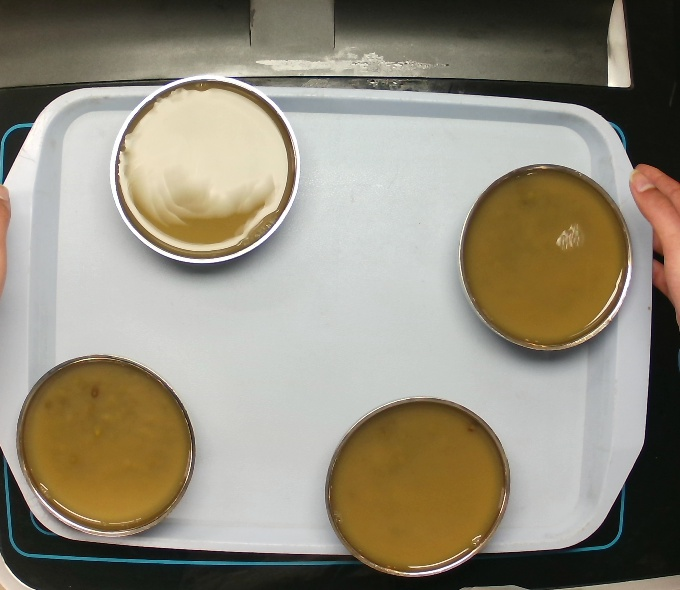wcq-LvDouTang: (111, 79, 293, 255), (325, 395, 505, 571), (458, 165, 629, 348), (19, 357, 192, 528)
